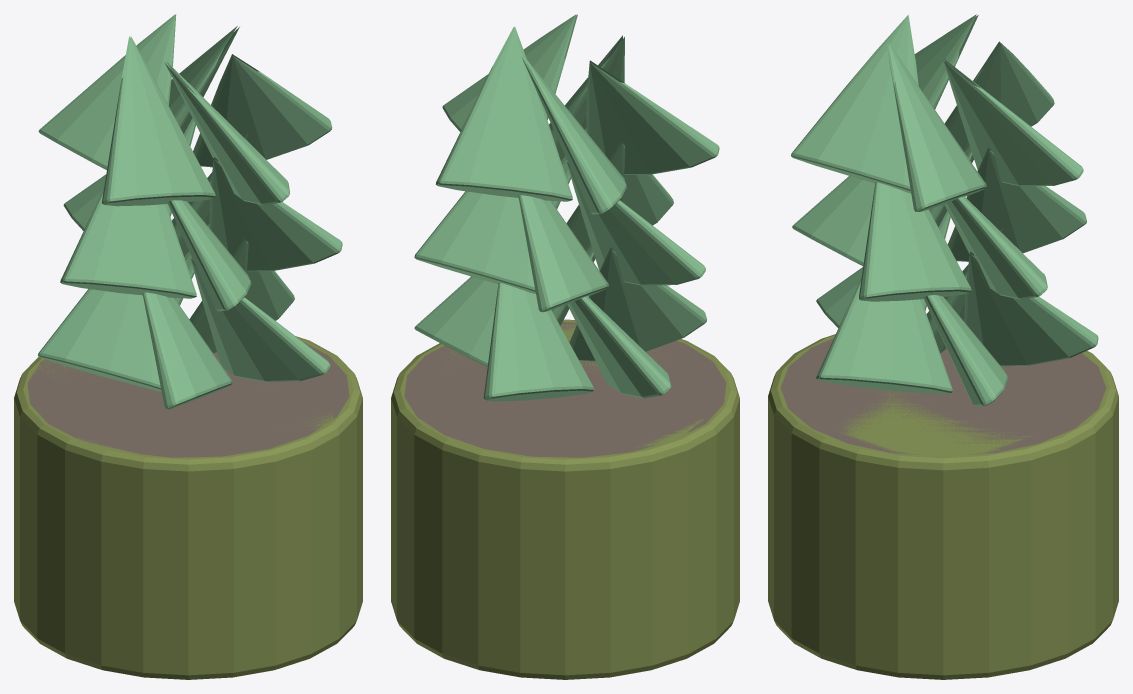
Rendered from isometric_modern_office_kit_18.glb.
3 renders of one model, left to right at view 1: azimuth 30°, elevation 25°; view 2: azimuth 150°, elevation 25°; view 3: azimuth 270°, elevation 25°, orthographic.
Parts seen in each view (by area): view 1: Cylinder; view 2: Cylinder; view 3: Cylinder.
Part boxes in pixels (left/top/right/bottom): Cylinder: left=14, top=14, right=362, bottom=679; Cylinder: left=391, top=14, right=739, bottom=679; Cylinder: left=768, top=14, right=1118, bottom=679.
Bounding box in the file's own units: 0.546 × 0.9875 × 0.546.
